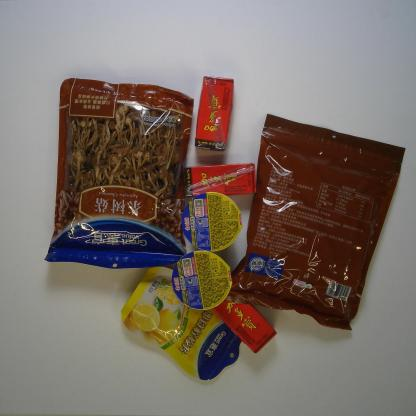Dried Food: (225, 113, 409, 338), (43, 74, 195, 267)
Dried Fruit: (119, 266, 242, 384)
Drink: (215, 289, 277, 356), (193, 75, 236, 150), (181, 160, 256, 197)
Instant Noodles: (178, 190, 244, 252), (169, 250, 233, 310)
